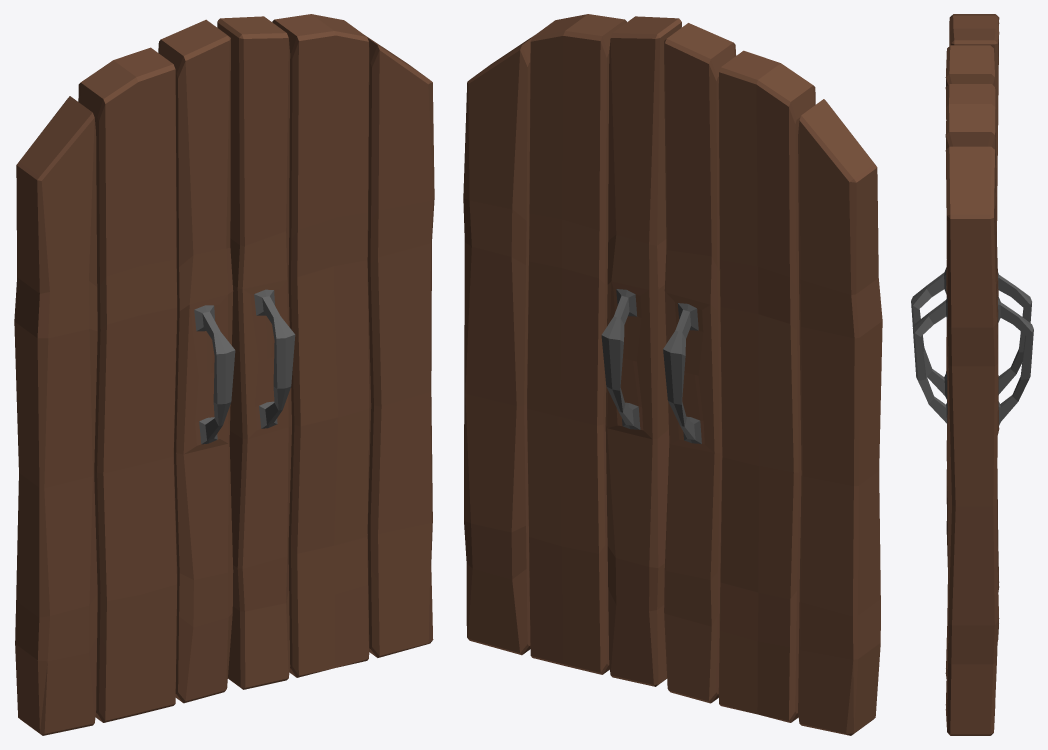
The model's file is WoodenGate.fbx.
The picture shows the model from 3 angles, left to right: view 1: azimuth 30°, elevation 25°; view 2: azimuth 150°, elevation 25°; view 3: azimuth 270°, elevation 25°; orthographic projection. The views are drawn at different scales.
Parts seen in each view (by area): view 1: WoodenGate; view 2: WoodenGate; view 3: WoodenGate.
Part boxes in pixels (x1,y1,x2,y2): WoodenGate: [14, 14, 434, 735]; WoodenGate: [463, 14, 882, 735]; WoodenGate: [911, 14, 1033, 735].
Bounding box in the file's own units: 163 × 257 × 47.16.
1 material, 1 textured.
